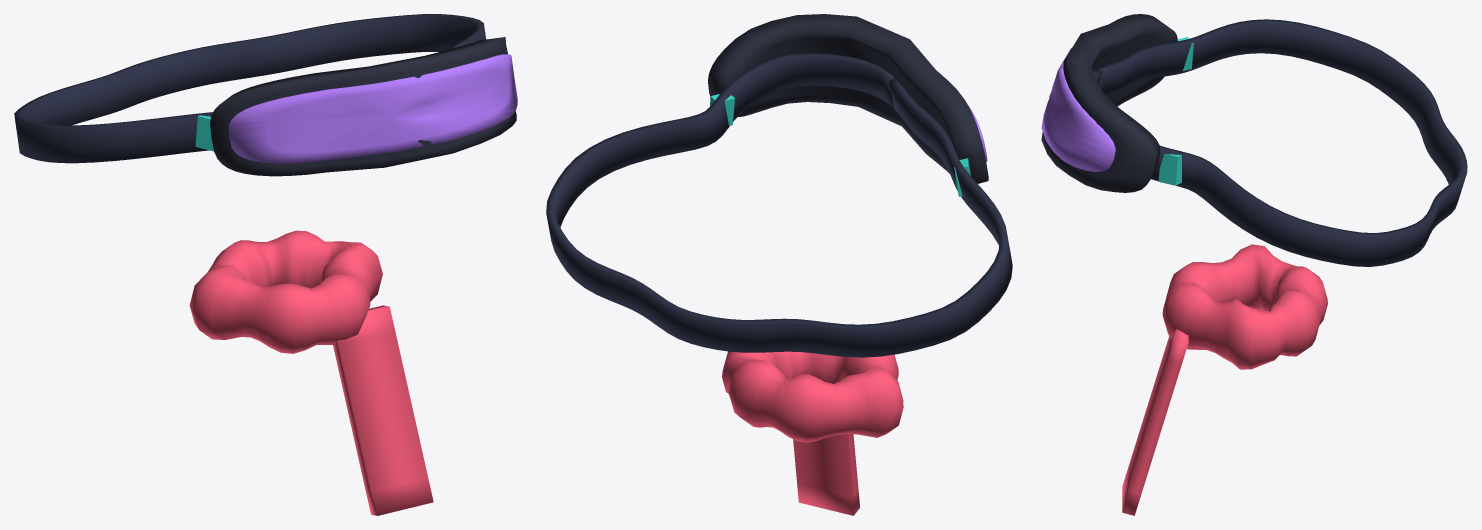
File: fox-gear.glb
The picture shows the model from 3 angles, left to right: view 1: azimuth 30°, elevation 25°; view 2: azimuth 150°, elevation 25°; view 3: azimuth 270°, elevation 25°; orthographic projection. The views are drawn at different scales.
Visible parts, largest first — view 1: GoggleStrap, GoggleLens, Scarf, ScarfEnd, GoggleFrame; view 2: GoggleStrap, GoggleFrame, Scarf, ScarfEnd; view 3: GoggleStrap, Scarf, GoggleFrame, GoggleLens, ScarfEnd, GoggleClip.001.
Boxes of the visible parts, left/top/right/bottom form: GoggleStrap: left=14, top=14, right=486, bottom=163; GoggleLens: left=228, top=54, right=517, bottom=163; Scarf: left=189, top=230, right=382, bottom=353; ScarfEnd: left=333, top=305, right=433, bottom=515; GoggleFrame: left=210, top=37, right=516, bottom=176; GoggleStrap: left=546, top=53, right=1012, bottom=357; GoggleFrame: left=708, top=14, right=988, bottom=183; Scarf: left=722, top=351, right=903, bottom=442; ScarfEnd: left=793, top=433, right=859, bottom=515; GoggleStrap: left=1093, top=19, right=1467, bottom=266; Scarf: left=1162, top=244, right=1327, bottom=369; GoggleFrame: left=1041, top=14, right=1177, bottom=192; GoggleLens: left=1041, top=48, right=1115, bottom=171; ScarfEnd: left=1122, top=329, right=1188, bottom=515; GoggleClip.001: left=1158, top=154, right=1181, bottom=185.
Bounding box in the file's own units: 0.4378 × 0.4545 × 0.3934.
